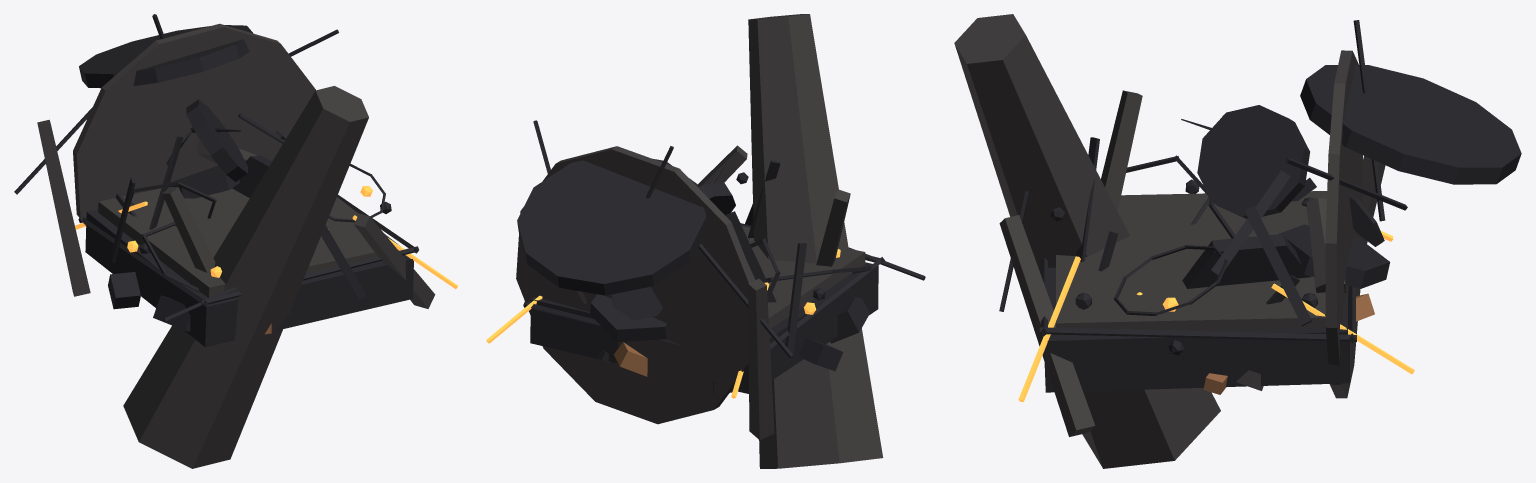
Rendered from Wreck_UplinkTower.fbx.
The picture shows the model from 3 angles, left to right: view 1: azimuth 30°, elevation 25°; view 2: azimuth 150°, elevation 25°; view 3: azimuth 270°, elevation 25°; orthographic projection. The views are drawn at different scales.
Parts seen in each view (by area): view 1: Wreck_UplinkTower; view 2: Wreck_UplinkTower; view 3: Wreck_UplinkTower.
Boxes of the visible parts, x1,y1,x2,y2 form: Wreck_UplinkTower: [14, 14, 457, 468]; Wreck_UplinkTower: [486, 14, 925, 468]; Wreck_UplinkTower: [954, 14, 1521, 468].
Bounding box in the file's own units: 1.15 × 1.41 × 1.49.
